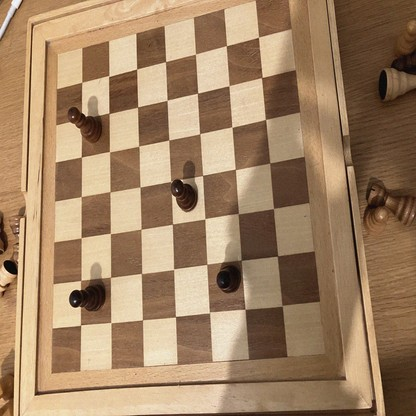pawn_black: (68, 107, 101, 143), (70, 283, 106, 311), (170, 180, 197, 211), (218, 267, 240, 292)
pawn_white: (395, 18, 416, 55), (364, 205, 388, 236)
rock_black: (368, 183, 416, 226)
